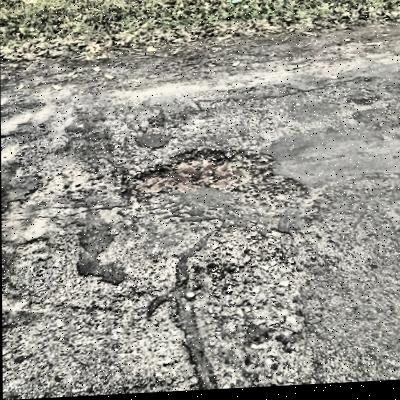pothole: (120, 141, 311, 217)
